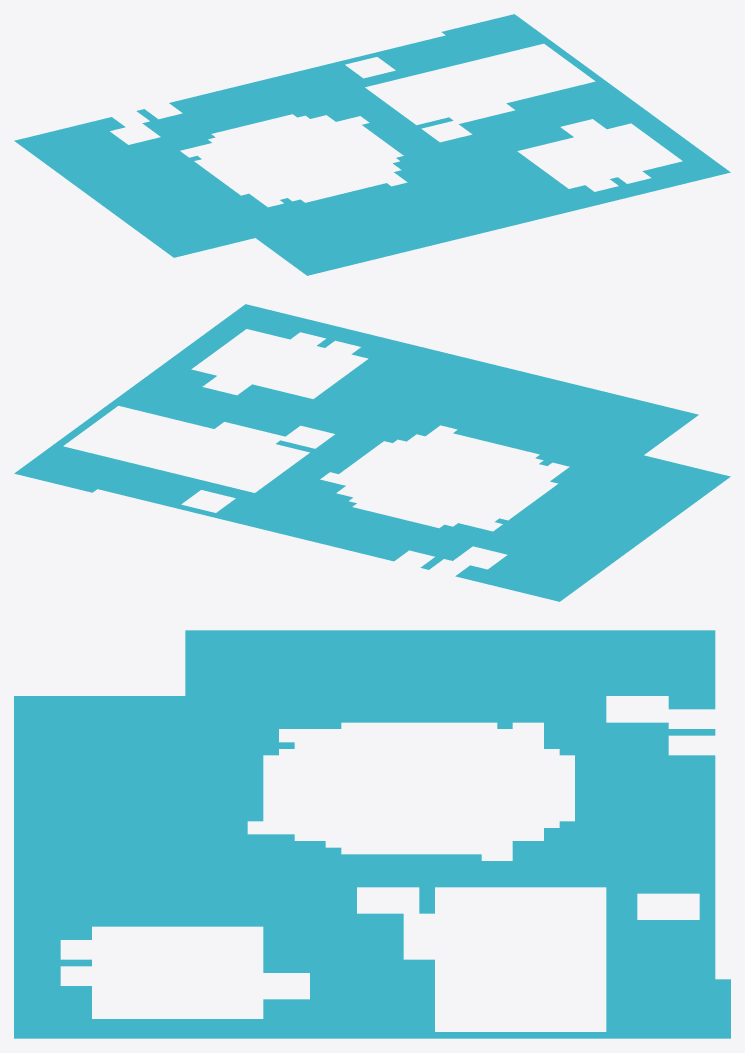
The model's file is navmesh.glb.
The picture shows the model from 3 angles, top to bottom: view 1: azimuth 30°, elevation 25°; view 2: azimuth 150°, elevation 25°; view 3: azimuth 270°, elevation 25°; orthographic projection. The views are drawn at different scales.
Parts seen in each view (by area): view 1: WalkableSurface; view 2: WalkableSurface; view 3: WalkableSurface.
Part boxes in pixels (x1,y1,x2,y2): WalkableSurface: [14, 14, 730, 275]; WalkableSurface: [14, 304, 730, 601]; WalkableSurface: [14, 630, 730, 1038].
Bounding box in the file's own units: 31 × 0 × 23.
